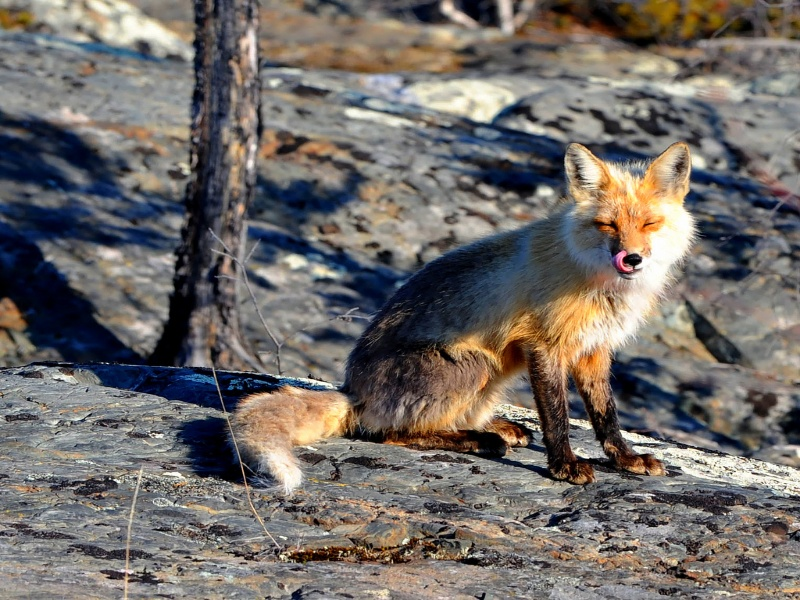fox: (223, 139, 703, 495)
